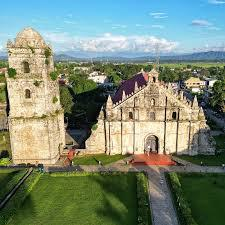Environmental Damage: (5, 66, 19, 80), (31, 77, 43, 88), (50, 70, 59, 84), (90, 123, 100, 132)
Paoay Church: (4, 23, 218, 157)
